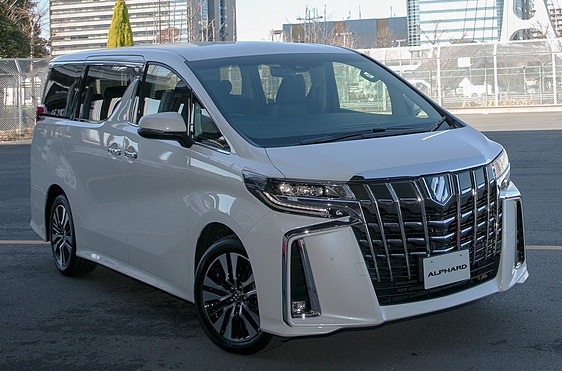van: (26, 37, 532, 355)
